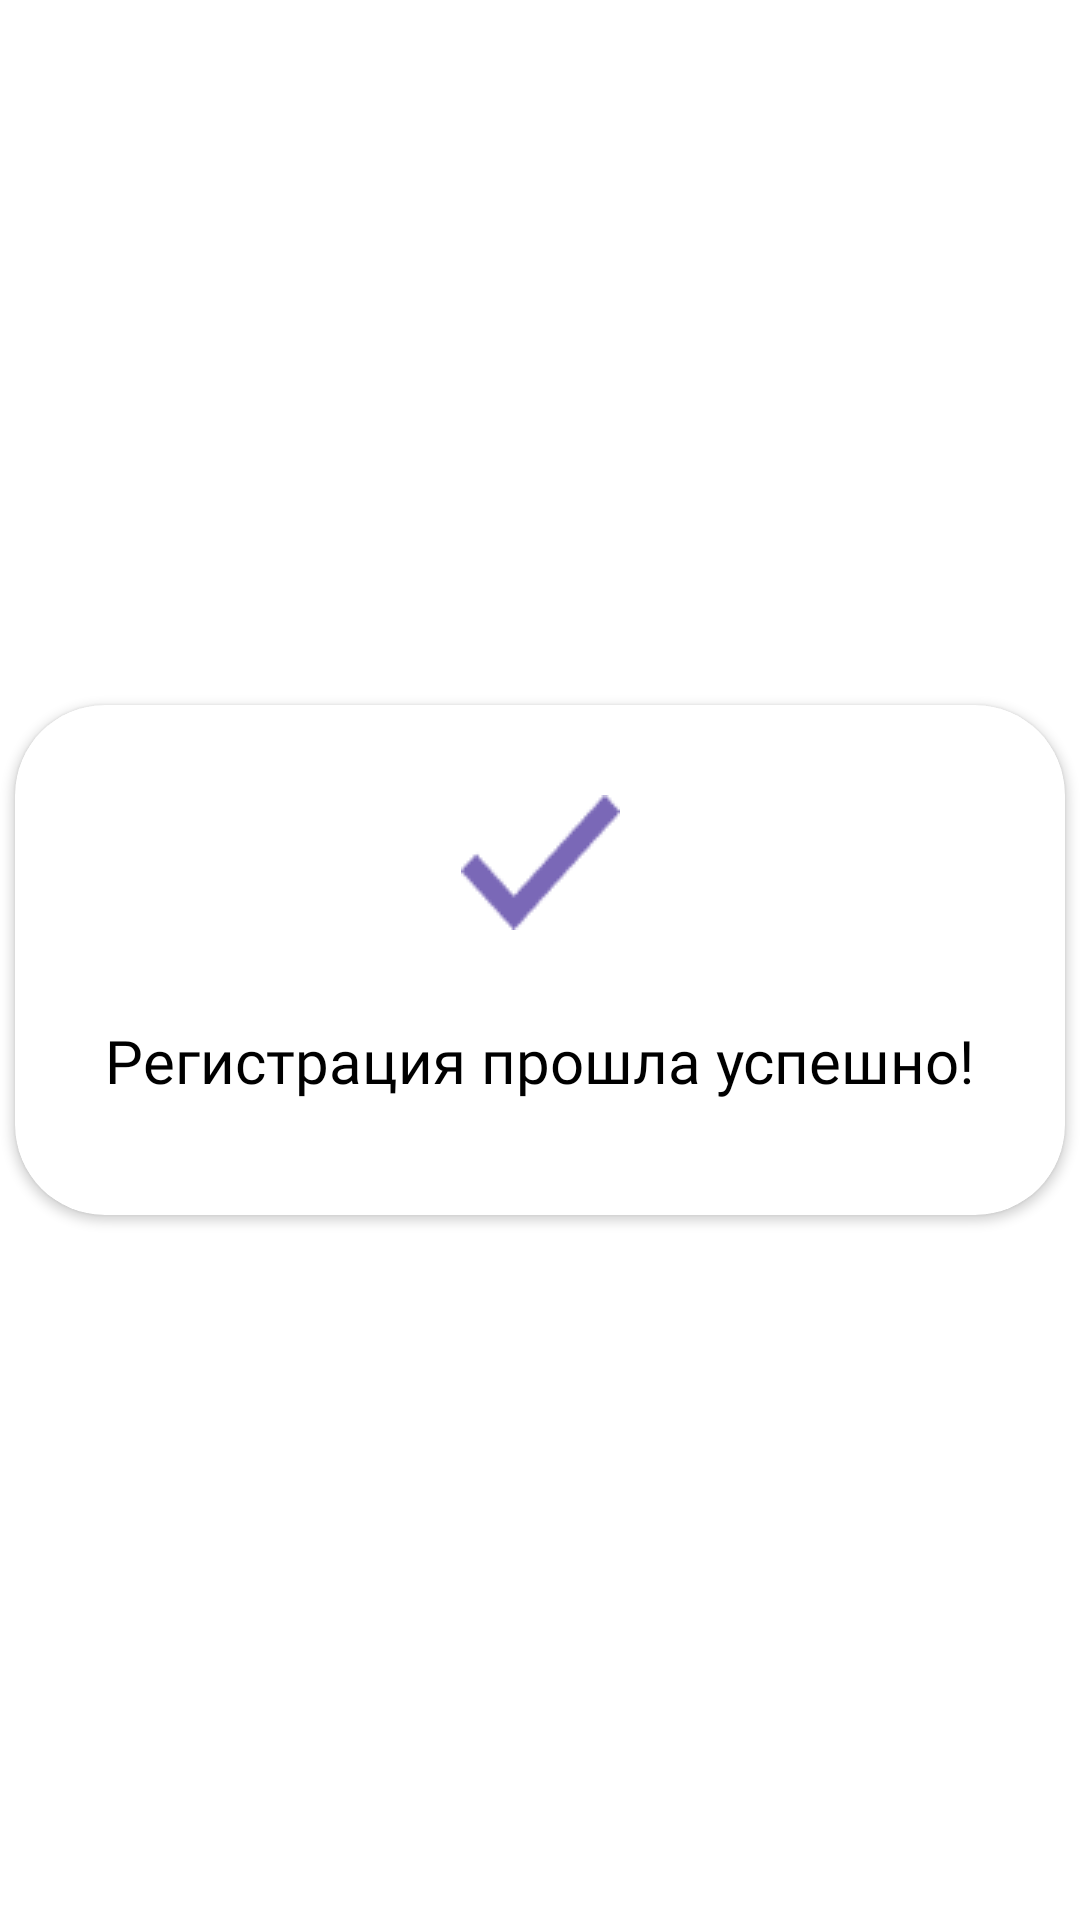

Where to tap for icons on this 1080*1920 app screen, as (x,y):
check: (540,862)
